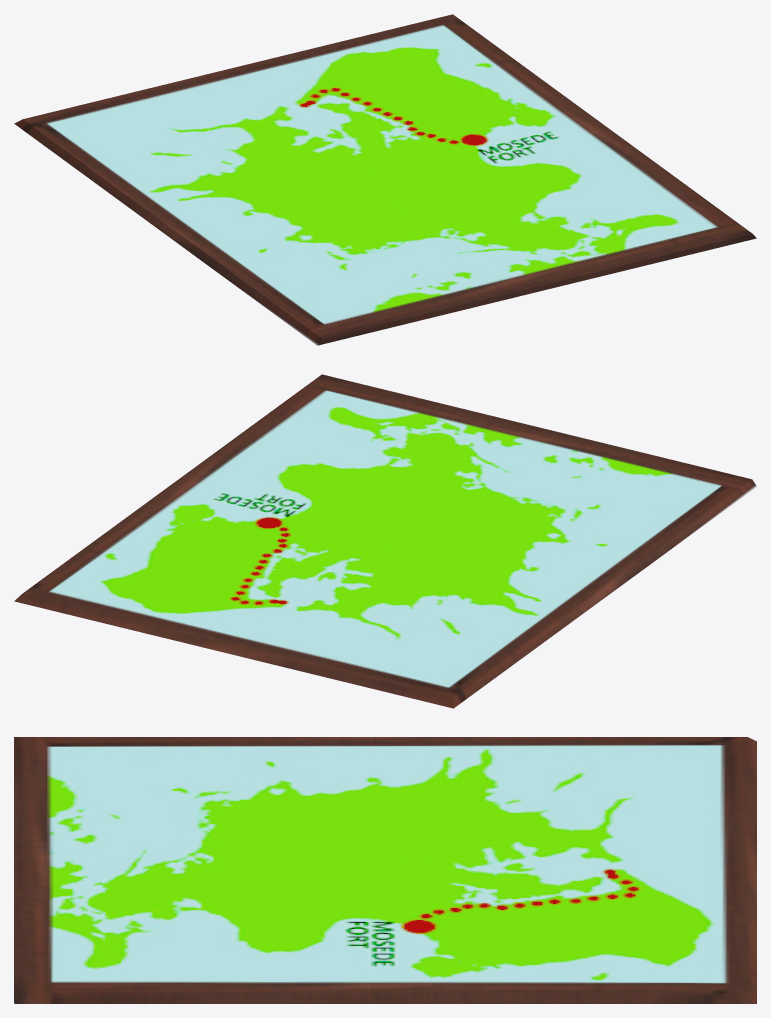
File: ramme_fbx.fbx
The picture shows the model from 3 angles, top to bottom: view 1: azimuth 30°, elevation 25°; view 2: azimuth 150°, elevation 25°; view 3: azimuth 270°, elevation 25°; orthographic projection. The views are drawn at different scales.
Parts seen in each view (by area): view 1: pCube1; view 2: pCube1; view 3: pCube1.
Boxes of the visible parts, bbox=[...] form: pCube1: bbox=[14, 14, 756, 345]; pCube1: bbox=[14, 374, 756, 708]; pCube1: bbox=[14, 737, 756, 1003].
Bounding box in the file's own units: 7.27 × 0.0934 × 8.69.
